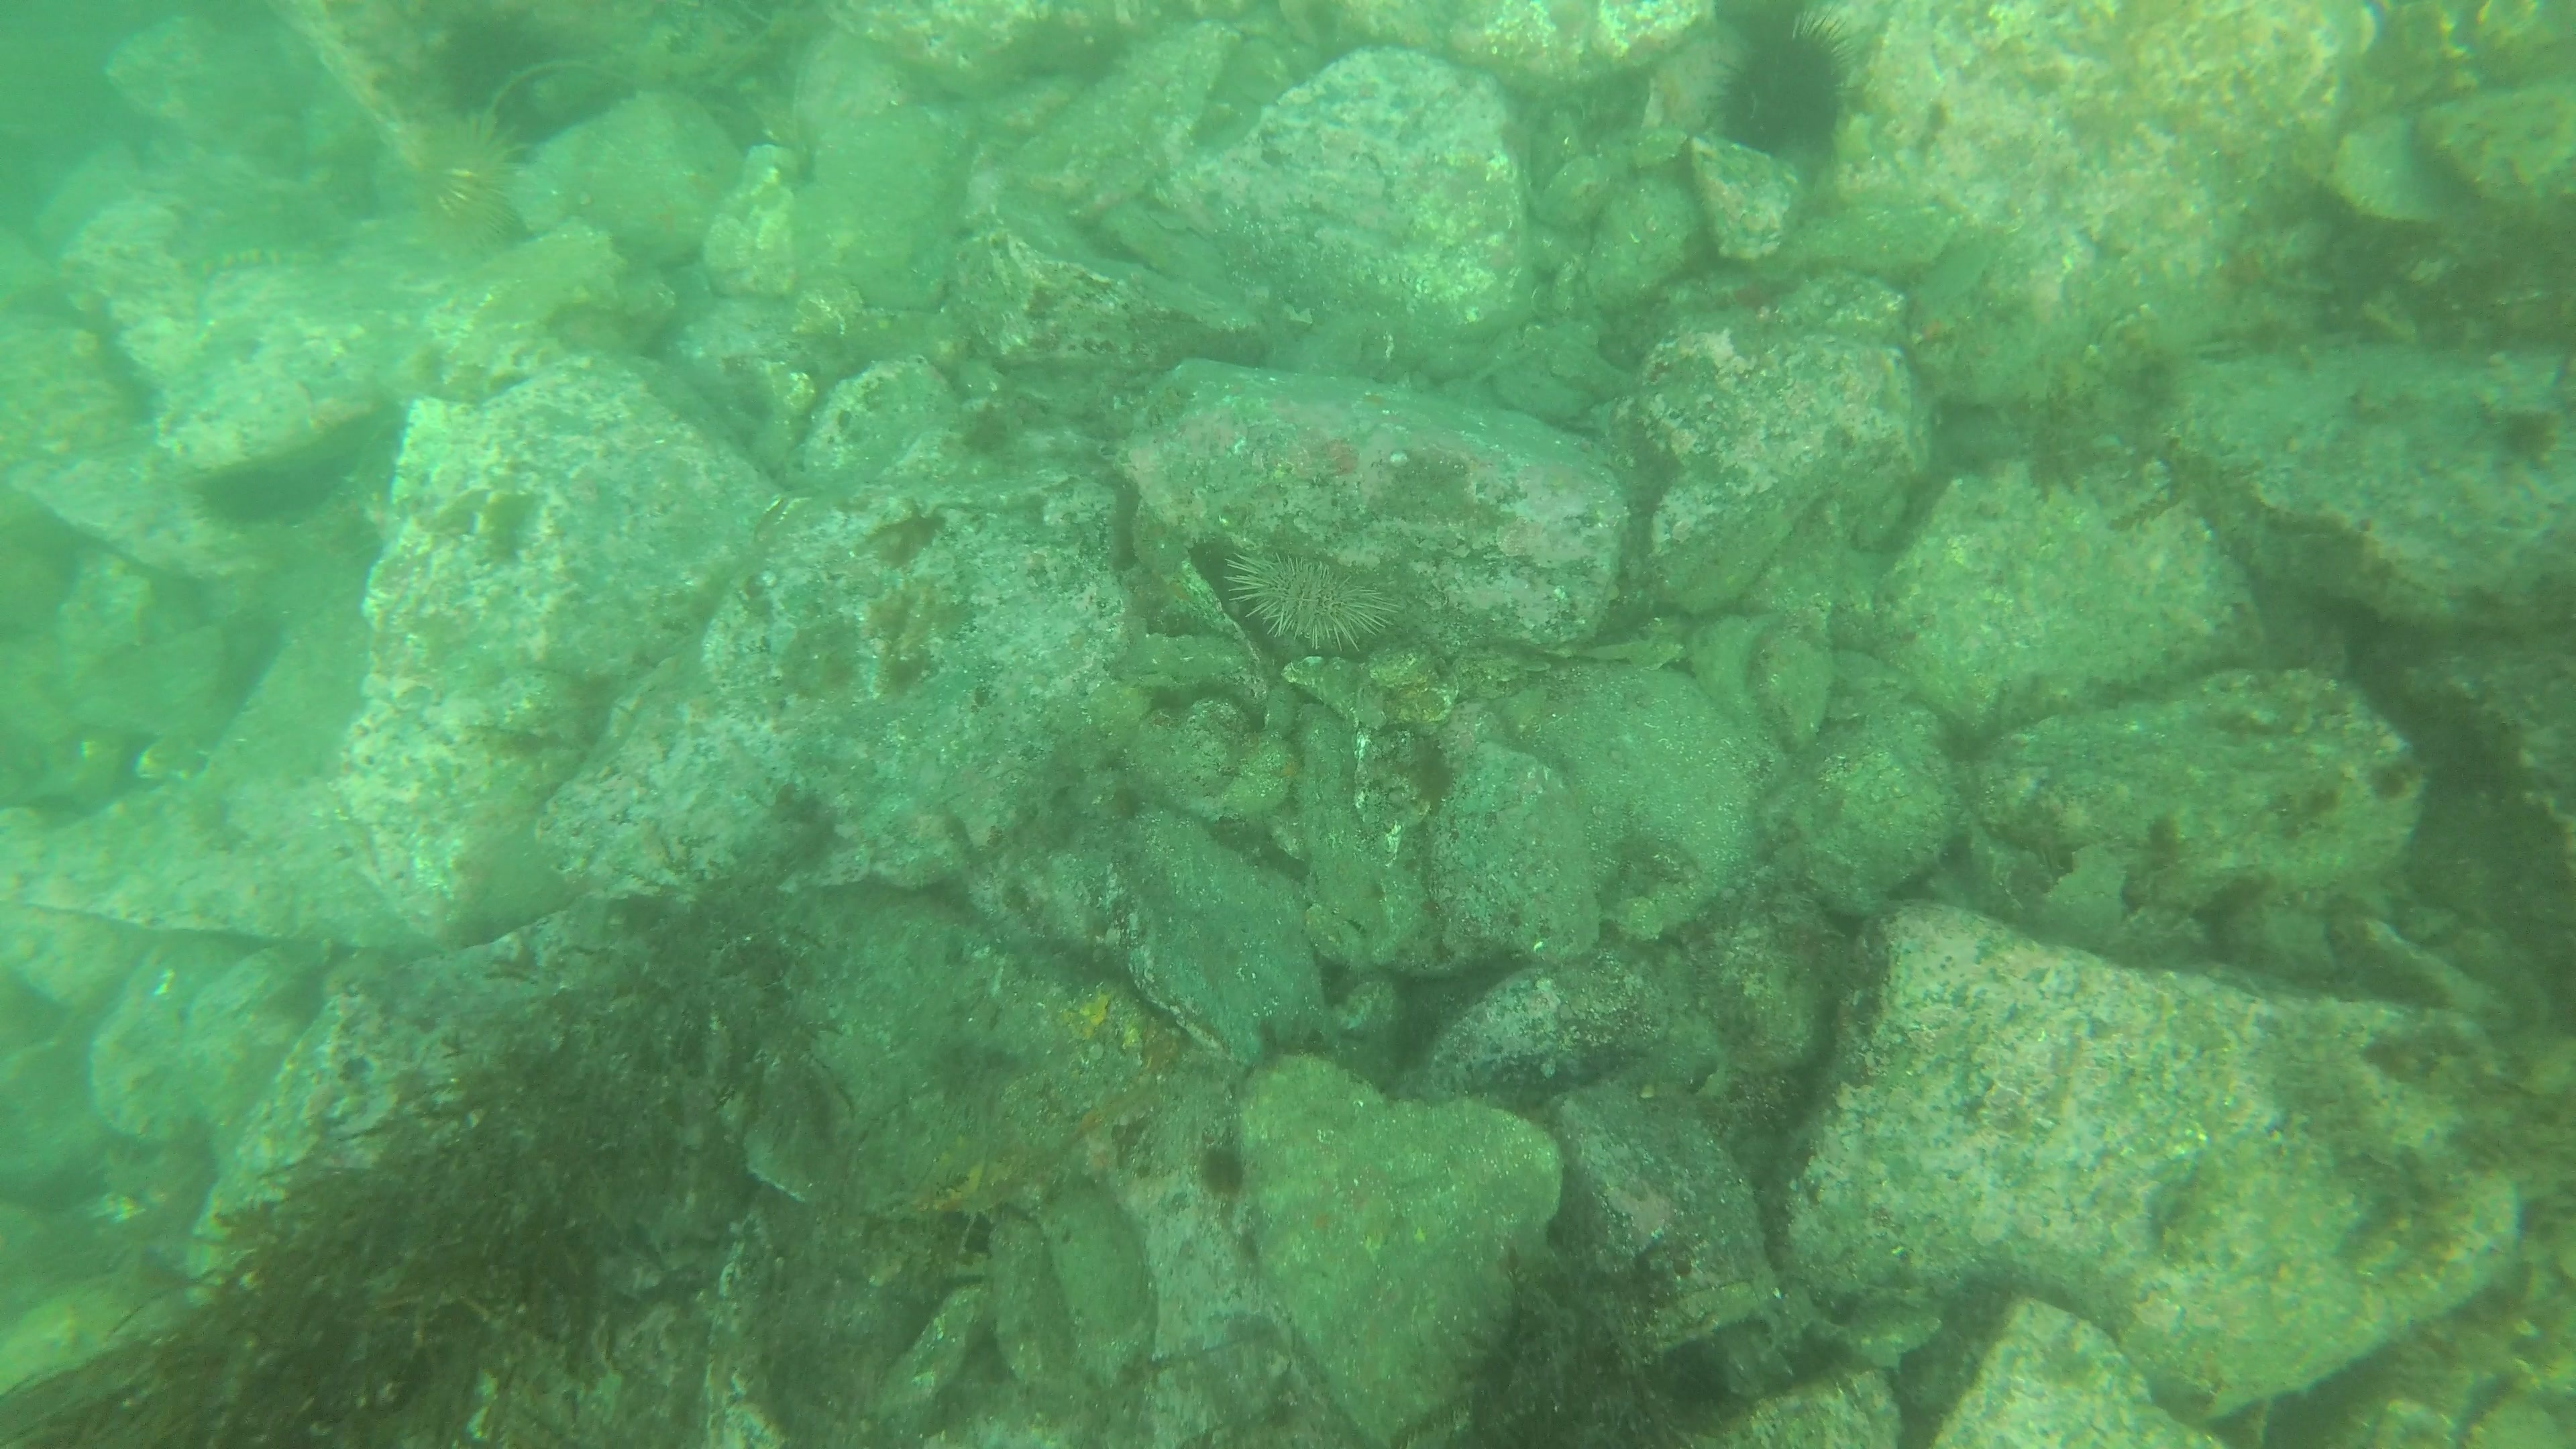echinus: (1219, 525, 1401, 665), (379, 103, 534, 264), (1706, 11, 1865, 166), (423, 7, 568, 126)
